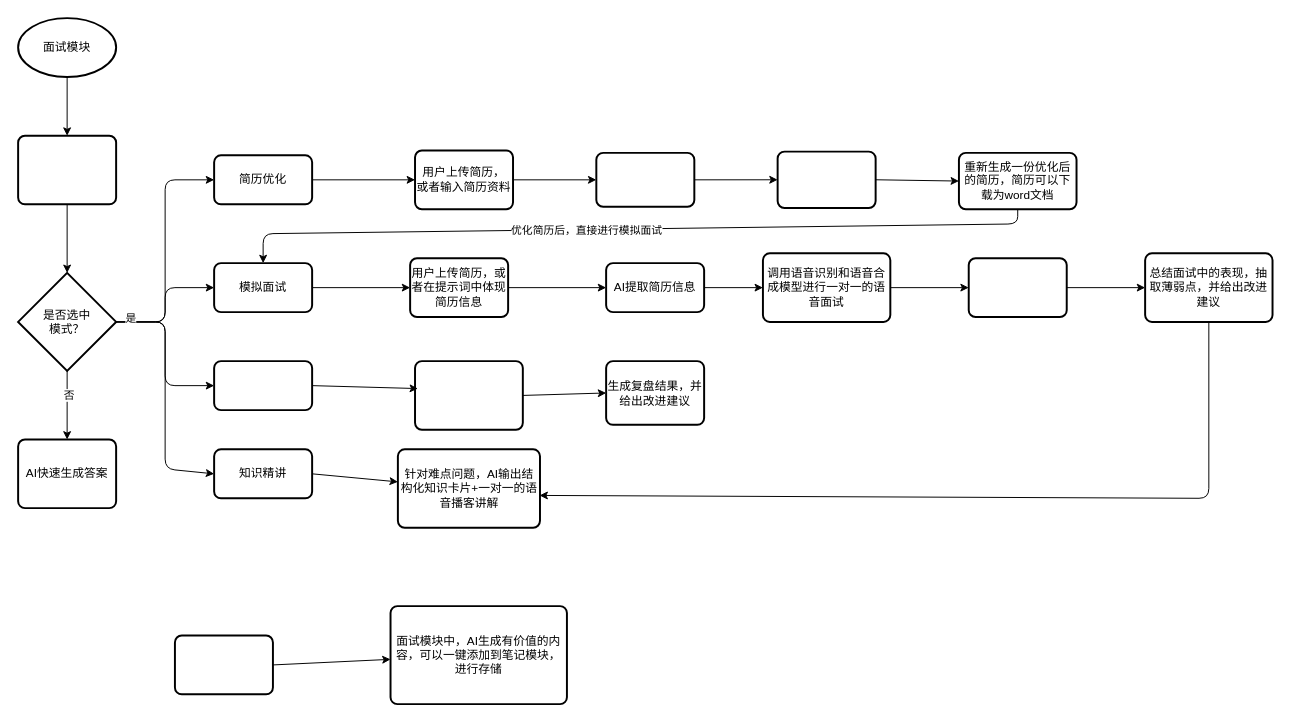
Image size: 1290x721. Some labels were removed from this diagram. The shapes that lost their labels are listed below. From the top down, each one's box as (x1, y1, x2, y2) in pixels, then its label:
(17, 134, 117, 205): 用户输入问题， 发送
(595, 151, 695, 207): AI对简历进行 深度分析
(776, 150, 876, 208): 对简历的优缺点进行评判
(967, 257, 1067, 318): 面试完成后调用面试复盘功能
(213, 360, 313, 411): 面试复盘
(414, 360, 523, 430): 用户上传真实的语音音频，让AI进行复盘分析
(173, 634, 273, 695): 笔记模块
